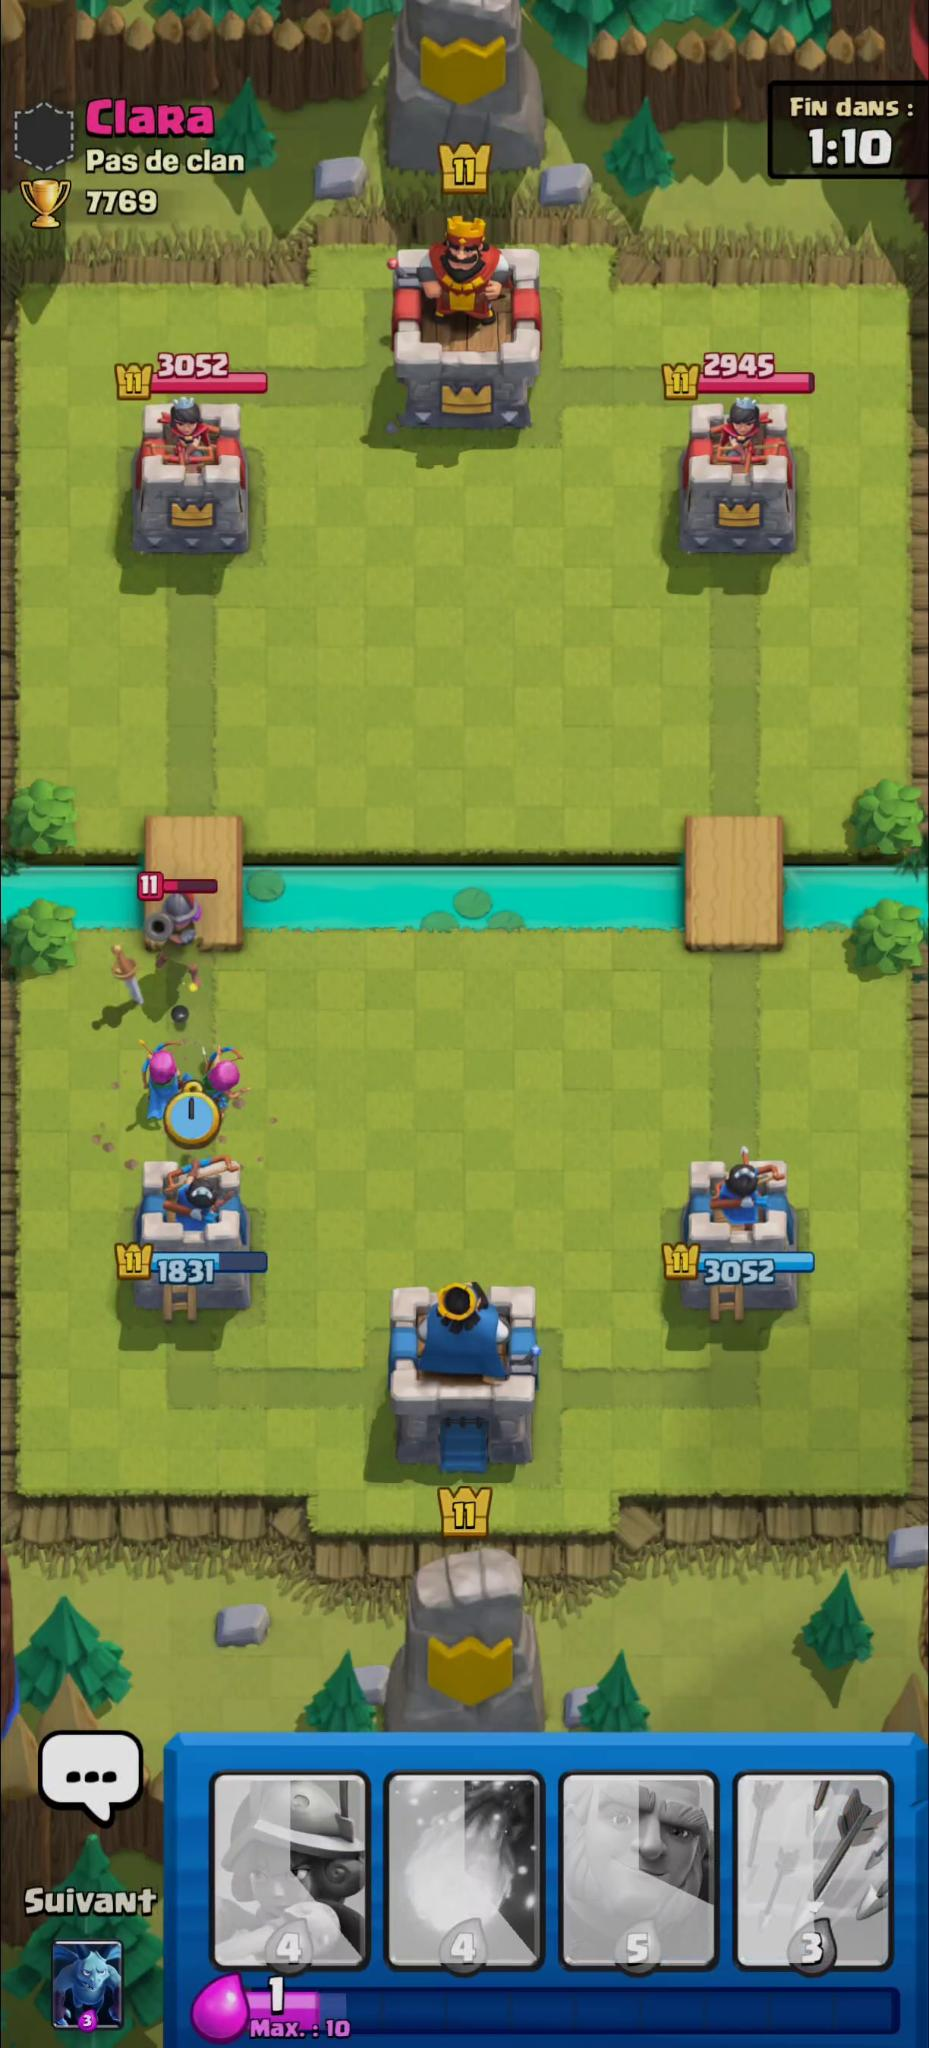archere: (139, 1036, 191, 1126), (196, 1034, 251, 1118)
mousquetaire: (150, 888, 212, 990)
